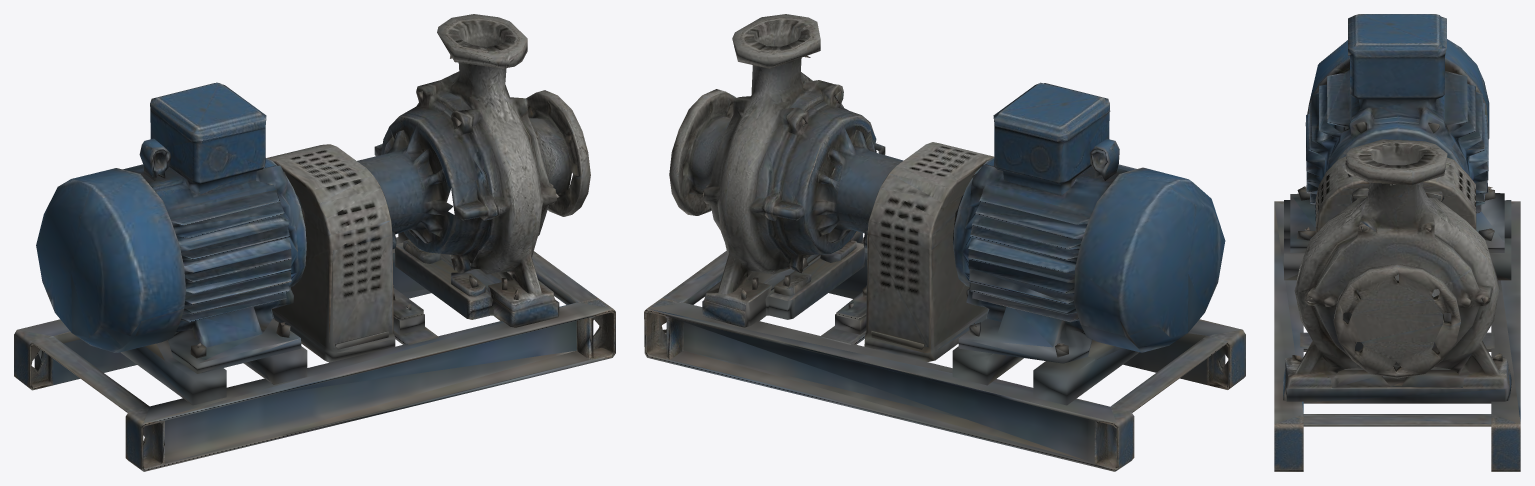
Rendered from p7-water-pump-skid-t25.glb.
3 renders of one model, left to right at view 1: azimuth 30°, elevation 25°; view 2: azimuth 150°, elevation 25°; view 3: azimuth 270°, elevation 25°, orthographic. The views are drawn at different scales.
Parts seen in each view (by area): view 1: p7-water-pump-skid-t25; view 2: p7-water-pump-skid-t25; view 3: p7-water-pump-skid-t25.
Boxes of the visible parts, left/top/right/bottom form: p7-water-pump-skid-t25: left=14, top=14, right=615, bottom=471; p7-water-pump-skid-t25: left=644, top=14, right=1245, bottom=471; p7-water-pump-skid-t25: left=1274, top=14, right=1520, bottom=471.
Size of the model in its own units: 1.04 by 0.6 by 0.472.
Materials: 1 (1 with a texture image).
